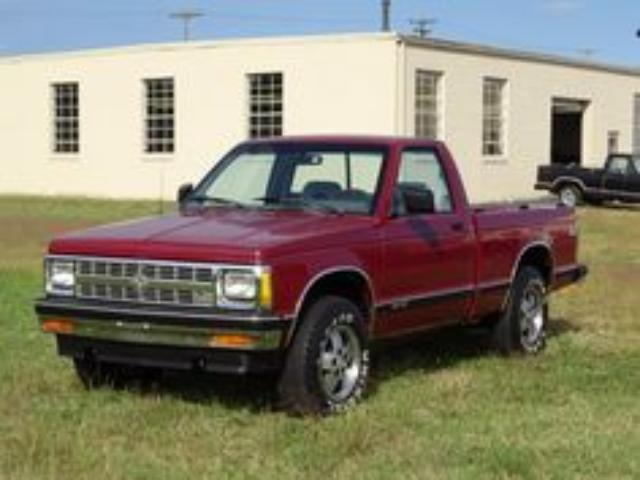pickup-truck: (33, 134, 588, 411)
